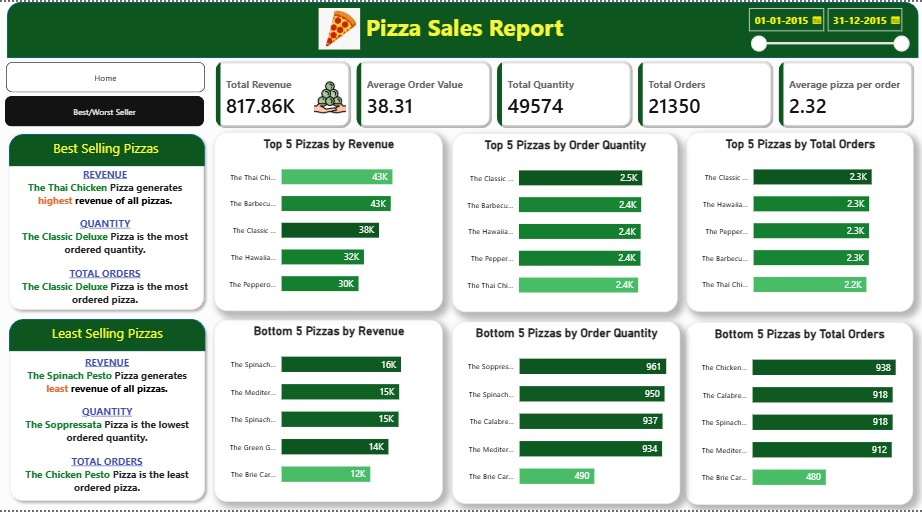

The page's visual inventory and layout, read from the dashboard file:
{"tool":"powerbi","page":{"name":"Best/Worst Seller","canvas":[1500,820],"ordinal":1},"visuals":[{"type":"shape","box":[8.2,203.4,332.9,301.8],"z":0},{"type":"shape","box":[13.8,0,1470.5,90.6],"z":1000},{"type":"cardVisual","fields":{"Data":["pizza_sales.Total_revenue","pizza_sales.Average Order Value","pizza_sales.total quantity","pizza_sales.Total orders","pizza_sales.Average pizza per order"]},"box":[334.6,76.8,1165.4,143.7],"z":2000},{"type":"barChart","title":"Bottom 5 Pizzas by Revenue","fields":{"Category":["pizza_sales.pizza_name"],"Y":["pizza_sales.Total_revenue"]},"box":[347.7,511.7,369,295.2],"z":3000},{"type":"textbox","box":[505.9,9.8,492.1,59.1],"z":4000},{"type":"barChart","title":"Top 5 Pizzas by Total Orders","fields":{"Y":["pizza_sales.Total orders"],"Category":["pizza_sales.pizza_name"]},"box":[1110.3,209.9,367.4,290.3],"z":5000},{"type":"barChart","title":"Bottom 5 Pizzas by Total Orders","fields":{"Category":["pizza_sales.pizza_name"],"Y":["pizza_sales.Total orders"]},"box":[1108.3,515.7,368.1,295.3],"z":6000},{"type":"barChart","title":"Bottom 5 Pizzas by Order Quantity","fields":{"Category":["pizza_sales.pizza_name"],"Y":["pizza_sales.total quantity"]},"box":[732.3,513.8,368.1,295.3],"z":7000},{"type":"barChart","title":"Top 5 Pizzas by Revenue","fields":{"Category":["pizza_sales.pizza_name"],"Y":["pizza_sales.Total_revenue"]},"box":[347.7,209.9,369,288.6],"z":8000},{"type":"slicer","fields":{"Values":["pizza_sales.order_date"]},"box":[1198.8,0,279.5,90.6],"z":9000},{"type":"shape","box":[9.8,505.1,332.9,308.3],"z":10000},{"type":"shape","box":[18,213.2,316,52.5],"z":11000},{"type":"shape","box":[18,511.7,317,52.5],"z":12000},{"type":"textbox","box":[32.8,216.5,283.7,49.2],"z":13000},{"type":"textbox","box":[37.7,515,278.8,49.2],"z":14000},{"type":"barChart","title":"Top 5 Pizzas by Order Quantity","fields":{"Category":["pizza_sales.pizza_name"],"Y":["pizza_sales.total quantity"]},"box":[732.3,210.6,364.2,289.4],"z":15000},{"type":"pageNavigator","box":[13.1,96.8,321.4,49.2],"z":16000},{"type":"pageNavigator","box":[11.5,150.9,321.4,49.2],"z":17000},{"type":"textbox","box":[23,260.8,300.1,252.6],"z":18000},{"type":"textbox","box":[26.2,564.2,300.1,255.8],"z":19000},{"type":"image","box":[487.1,9.8,126.3,67.2],"z":20000}]}

Visuals, with their boxes in screenshot pixels (x1, y1, x2, y2), scaled from the page's 1500x820 canvas onto the 922x512 screenshot:
shape: <box>5,127,210,315</box>
shape: <box>8,0,912,57</box>
cardVisual - pizza_sales.Total_revenue x pizza_sales.Average Order Value: <box>206,48,921,138</box>
"Bottom 5 Pizzas by Revenue" barChart: <box>214,320,441,504</box>
textbox: <box>311,6,613,43</box>
"Top 5 Pizzas by Total Orders" barChart: <box>682,131,908,312</box>
"Bottom 5 Pizzas by Total Orders" barChart: <box>681,322,907,506</box>
"Bottom 5 Pizzas by Order Quantity" barChart: <box>450,321,676,505</box>
"Top 5 Pizzas by Revenue" barChart: <box>214,131,441,311</box>
slicer - pizza_sales.order_date: <box>737,0,909,57</box>
shape: <box>6,315,211,508</box>
shape: <box>11,133,205,166</box>
shape: <box>11,320,206,352</box>
textbox: <box>20,135,195,166</box>
textbox: <box>23,322,195,352</box>
"Top 5 Pizzas by Order Quantity" barChart: <box>450,131,674,312</box>
pageNavigator: <box>8,60,206,91</box>
pageNavigator: <box>7,94,205,125</box>
textbox: <box>14,163,199,321</box>
textbox: <box>16,352,201,511</box>
image: <box>299,6,377,48</box>
